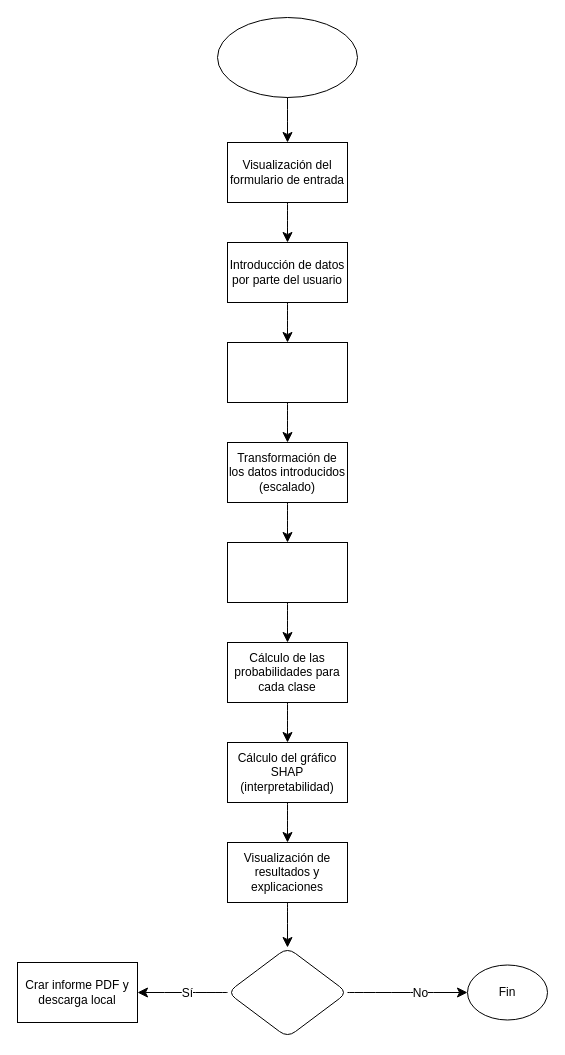
The diagram is 565 pixels wide and 1055 high, and some of its shapes have lost their labels. Here are the shapes that lost their labels. From the top down, the centre of each, then its label:
the point at 287,57: Inicio de la aplicación
the point at 287,372: Pulsar botón "Realizar predicción"
the point at 287,572: Carga del modelo y ejecución de la predicción
the point at 287,992: ¿Generar informe?
